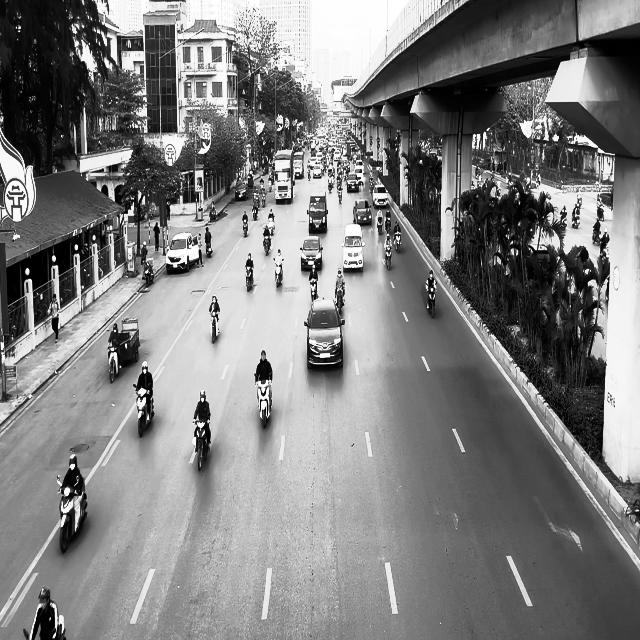bus: (274, 149, 294, 204)
car: (304, 297, 345, 369), (165, 232, 200, 274), (341, 223, 365, 272), (307, 192, 328, 233), (300, 236, 324, 271), (353, 199, 372, 225), (373, 184, 388, 207), (346, 172, 359, 192), (235, 182, 248, 200)
motorbike: (56, 474, 88, 554), (133, 383, 154, 438), (192, 418, 210, 470), (255, 373, 272, 428), (107, 342, 122, 383), (425, 283, 437, 318), (209, 309, 220, 343), (335, 284, 345, 314), (143, 258, 154, 285), (274, 258, 283, 287), (309, 278, 318, 302), (245, 265, 253, 291), (384, 244, 392, 270), (263, 230, 271, 255), (393, 232, 401, 252), (559, 210, 567, 230), (252, 202, 259, 220), (205, 240, 212, 257), (242, 217, 248, 236), (377, 216, 382, 234), (338, 186, 342, 203)
